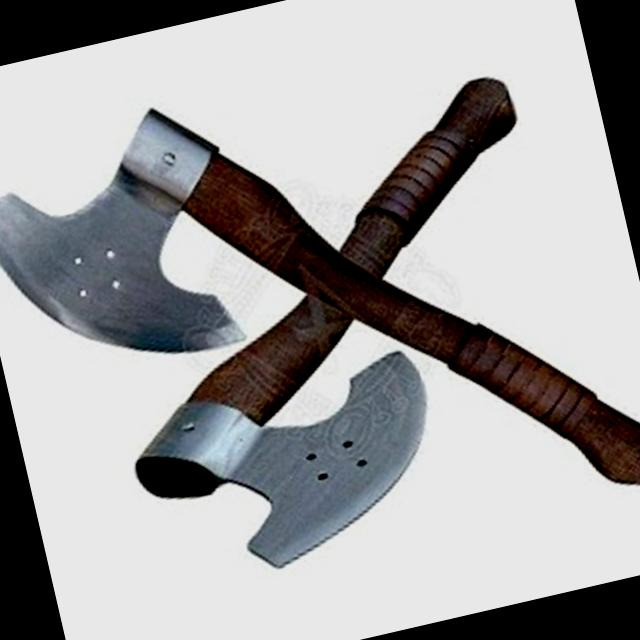ax: (0, 12, 640, 584), (46, 64, 615, 594)
